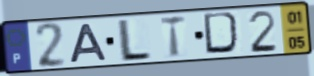2: (33, 19, 68, 72), (247, 9, 279, 54)
A: (67, 22, 110, 64)
D: (201, 10, 244, 56)
L: (117, 17, 154, 64)
T: (159, 14, 188, 59)
